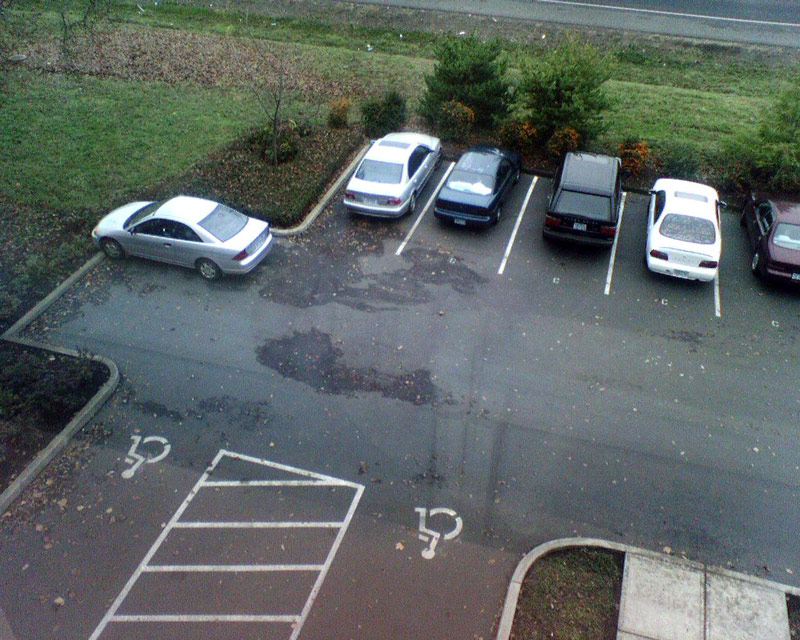car: (91, 192, 274, 290), (430, 143, 524, 242), (340, 130, 440, 221), (644, 176, 724, 278), (540, 150, 625, 245), (744, 189, 800, 284)
